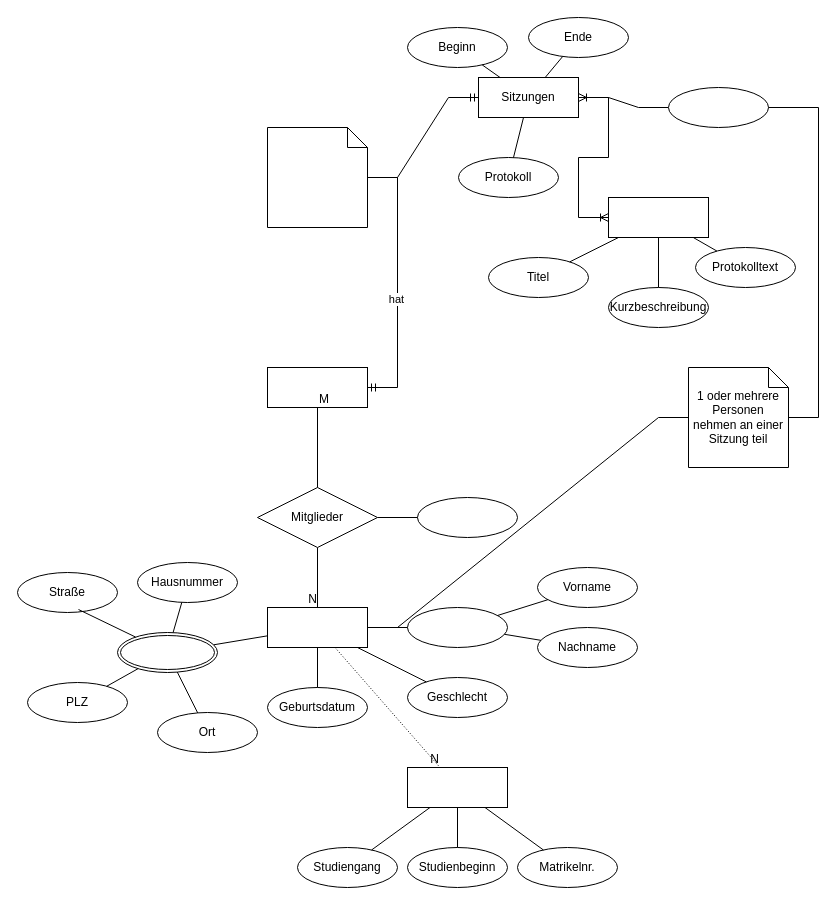
Some shapes in this 837 by 905 pixel diagram are drawn without their labels. The shapes that lost their labels are listed below. From the top down, each one's box as (x1, y1, x2, y2) in pixels, then its label:
(668, 86, 768, 128): verspätet gekommen?
(266, 126, 368, 228): Gremium hat Sitzung 1:1
(608, 196, 708, 238): Tagesordnung
(266, 366, 368, 408): Gremien
(416, 496, 518, 538): Funktion
(266, 606, 368, 648): Personen
(406, 606, 508, 648): Name
(116, 632, 218, 672): Adresse
(406, 766, 508, 808): Student
